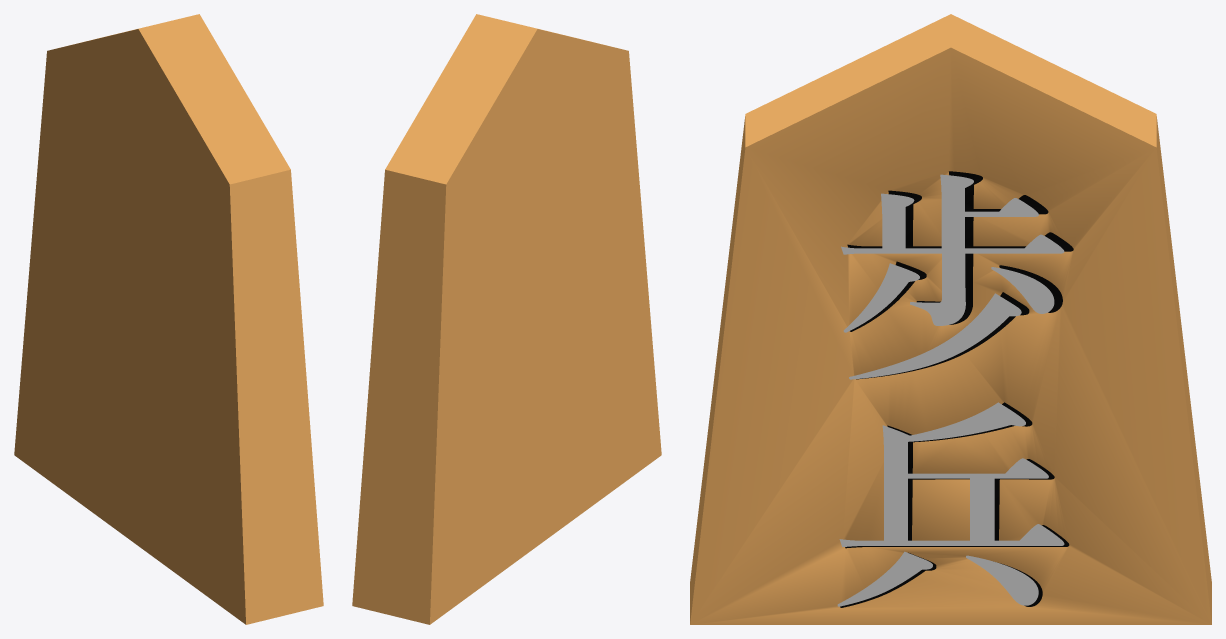
Rendered from JapaneseChessRook.fbx.
3 renders of one model, left to right at view 1: azimuth 30°, elevation 25°; view 2: azimuth 150°, elevation 25°; view 3: azimuth 270°, elevation 25°, orthographic. The views are drawn at different scales.
Visible parts, largest first — view 1: Cube; view 2: Cube; view 3: Cube, Text.
Part boxes in pixels (x1,y1,x2,y2): Cube: [14, 14, 323, 624]; Cube: [352, 14, 661, 624]; Cube: [690, 14, 1211, 624]; Text: [837, 174, 1064, 606].
Size of the model in its own units: 40.73 by 242 by 200.
2 materials, 2 textured.
